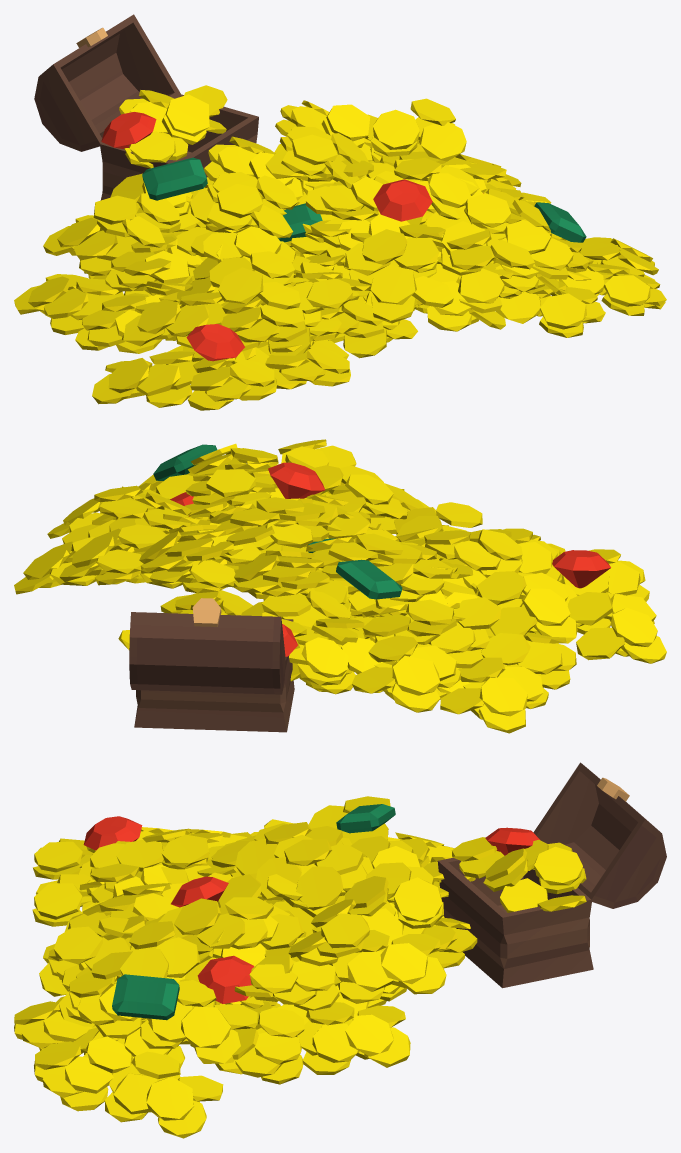
The model's file is m_bg_treasure_01.fbx.
The picture shows the model from 3 angles, top to bottom: view 1: azimuth 30°, elevation 25°; view 2: azimuth 150°, elevation 25°; view 3: azimuth 270°, elevation 25°; orthographic projection. The views are drawn at different scales.
Parts seen in each view (by area): view 1: m_bg_treasur_01; view 2: m_bg_treasur_01; view 3: m_bg_treasur_01.
Part boxes in pixels (x1,y1,x2,y2): m_bg_treasur_01: [14, 14, 666, 410]; m_bg_treasur_01: [14, 439, 666, 733]; m_bg_treasur_01: [14, 762, 666, 1138].
Size of the model in its own units: 713 by 207 by 678.
